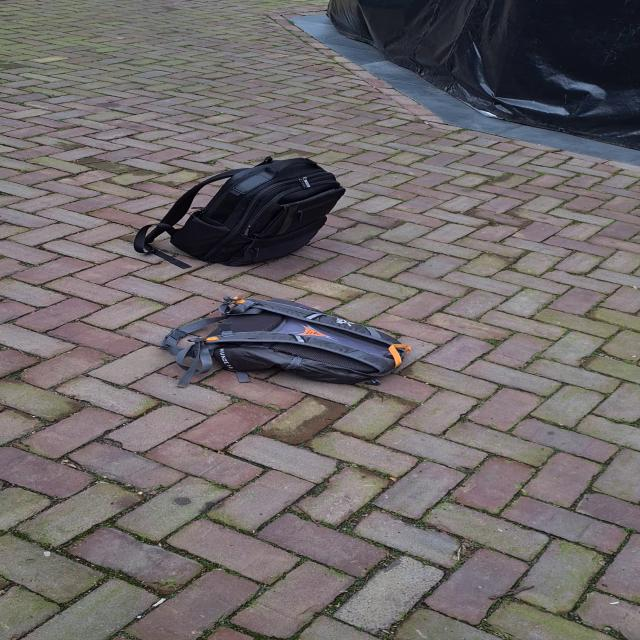backpack: (134, 156, 350, 274), (152, 298, 408, 386)
